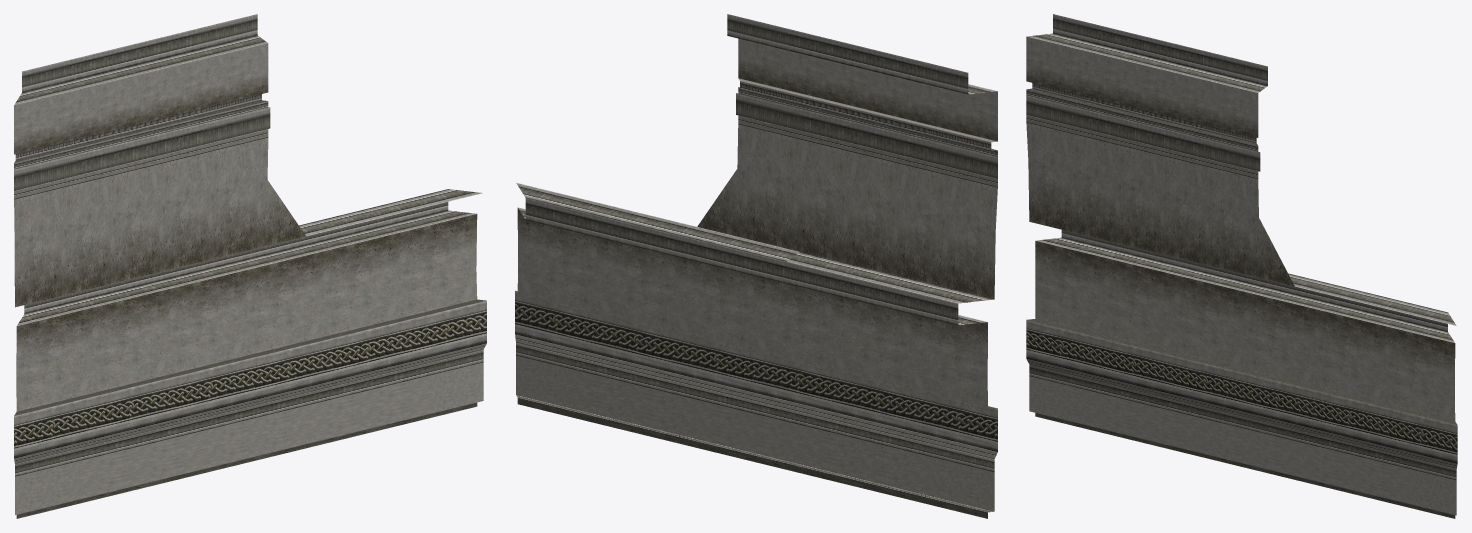
File: DWARF_PALACE_ARKENSTONE_ROOM_WALL02.fbx
3 views of the same model, side by side, from view 1: azimuth 30°, elevation 25°; view 2: azimuth 150°, elevation 25°; view 3: azimuth 330°, elevation 25° (orthographic). The views are drawn at different scales.
Parts seen in each view (by area): view 1: DWARF_PALACE_ARKENSTONE_ROOM_WALL02; view 2: DWARF_PALACE_ARKENSTONE_ROOM_WALL02; view 3: DWARF_PALACE_ARKENSTONE_ROOM_WALL02.
Part boxes in pixels (bbox=[...]): DWARF_PALACE_ARKENSTONE_ROOM_WALL02: bbox=[14, 14, 486, 518]; DWARF_PALACE_ARKENSTONE_ROOM_WALL02: bbox=[515, 14, 997, 518]; DWARF_PALACE_ARKENSTONE_ROOM_WALL02: bbox=[1026, 14, 1457, 518].
Size of the model in its own units: 230960 by 205000 by 12001.
Materials: 8 (8 with a texture image).
